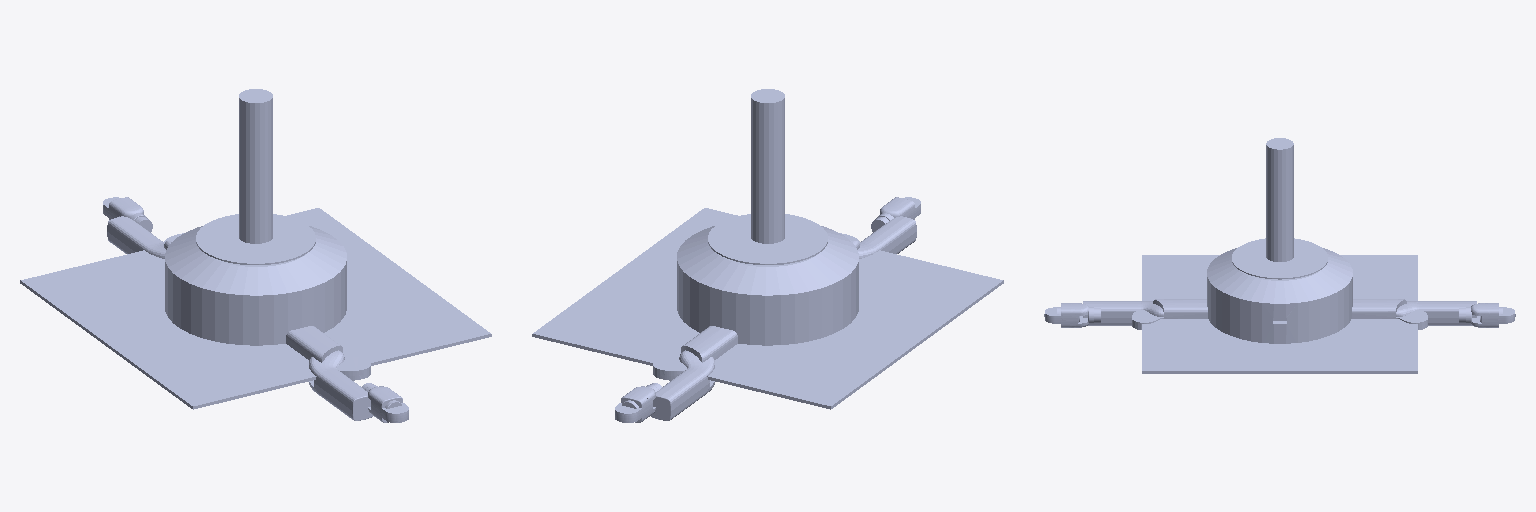
robot.urdf — LITE:
<?xml version="1.0" encoding="utf-8"?>
<!-- This URDF was automatically created by SolidWorks to URDF Exporter! Originally created by Stephen Brawner (brawner@gmail.com) 
     Commit Version: 1.6.0-4-g7f85cfe  Build Version: 1.6.7995.38578
     For more information, please see http://wiki.ros.org/sw_urdf_exporter -->
<robot
  name="LITE">
  <link name="world"/>
  <joint name="base_joint" type="fixed">
    <parent link="world"/>
    <child link="base_link"/>
    <origin rpy="0.0 0.0 0.0" xyz="0 0 0"/>
  </joint>
  <link
    name="base_link">
    <inertial>
      <origin
        xyz="0.0141253292247249 -4.20036726179649E-06 0.132977121503776"
        rpy="0 0 0" />
      <mass
        value="2.75758151164205" />
      <inertia
        ixx="0.0614284317104345"
        ixy="3.22712480151775E-06"
        ixz="0.000129288008857176"
        iyy="0.0193606386384773"
        iyz="-4.41970516662187E-05"
        izz="0.0697269847834143" />
    </inertial>
    <visual>
      <origin
        xyz="0 0 0"
        rpy="0 0 0" />
      <geometry>
        <mesh
          filename="package://arm_configuration/urdf/meshes/base_link.STL" />
      </geometry>
      <material
        name="">
        <color
          rgba="0.792156862745098 0.819607843137255 0.933333333333333 1" />
      </material>
    </visual>
  </link>
  <link
    name="environment_collision">
    <inertial>
      <origin
        xyz="0.0 0.0 0.0"
        rpy="0 0 0" />
      <mass
        value="0.0" />
      <inertia
        ixx="0.0"
        ixy="0.0"
        ixz="0.0"
        iyy="0.0"
        iyz="0.0"
        izz="0.0" />
    </inertial>
    <visual>
      <origin
        xyz="0 0 0.005"
        rpy="0 0 0" />
      <geometry>
          <box size="1 1 0.01"/>
      </geometry>
      <material
        name="">
        <color
          rgba="0.792156862745098 0.819607843137255 0.933333333333333 1" />
      </material>
    </visual>
  </link>
  <joint
    name="environment_base_joint"
    type="fixed">
    <origin
      xyz="0 0 0.0"
      rpy="0 0 0" />
    <parent
      link="base_link" />
    <child
      link="environment_collision" />
    <axis
      xyz="0 0 1" />
    <limit
      lower="0"
      upper="0"
      effort="150"
      velocity="1.0" />
  </joint>
  <link
    name="rotate_base_link">
    <inertial>
      <origin
        xyz="-0.000293575703811394 0.0105850645597227 0.148111558028349"
        rpy="0 0 0" />
      <mass
        value="1.53801301257715" />
      <inertia
        ixx="0.0305533569145264"
        ixy="-2.16355441377411E-05"
        ixz="-2.08371263676793E-05"
        iyy="0.026580802515967"
        iyz="-0.000511036712929673"
        izz="0.0179793744285114" />
    </inertial>
    <visual>
      <origin
        xyz="0 0 0"
        rpy="0 0 0" />
      <geometry>
        <mesh
          filename="package://arm_configuration/urdf/meshes/rotate_base_link.STL" />
      </geometry>
      <material
        name="">
        <color
          rgba="0.792156862745098 0.819607843137255 0.933333333333333 1" />
      </material>
    </visual>
  </link>
  <joint
    name="rotate_base_joint"
    type="fixed">
    <origin
      xyz="0.0 0 0.0"
      rpy="0 0 1.5708" />
    <parent
      link="base_link" />
    <child
      link="rotate_base_link" />
    <axis
      xyz="0 0 -1" />
    <limit
      lower="-1.5708"
      upper="1.5708"
      effort="150"
      velocity="1.0" />
  </joint>
  <link
    name="lift_base_link">
    <inertial>
      <origin
        xyz="0.000139614102716292 -0.00597001135279782 0.28009249952768"
        rpy="0 0 0" />
      <mass
        value="4.41102991654336" />
      <inertia
        ixx="0.115079886502991"
        ixy="-3.11026110900405E-05"
        ixz="3.19304541861952E-05"
        iyy="0.11444642072515"
        iyz="-0.0070601292991342"
        izz="0.031305681364256" />
    </inertial>
    <visual>
      <origin
        xyz="0 0 0"
        rpy="0 0 0" />
      <geometry>
        <mesh
          filename="package://arm_configuration/urdf/meshes/lift_base_link.STL" />
      </geometry>
      <material
        name="">
        <color
          rgba="0.792156862745098 0.819607843137255 0.933333333333333 1" />
      </material>
    </visual>
  </link>
  <joint
    name="lift_base_joint"
    type="fixed">
    <origin
      xyz="0 0 0.0"
      rpy="0 0 0" />
    <parent
      link="rotate_base_link" />
    <child
      link="lift_base_link" />
    <axis
      xyz="0 0 1" />
    <limit
      lower="0"
      upper="0.0"
      effort="150"
      velocity="1.0" />
  </joint>
  <link
    name="left_link1">
    <inertial>
      <origin
        xyz="-2.66168288961255E-05 -0.00830749214625637 0.0310881283072645"
        rpy="0 0 0" />
      <mass
        value="0.241937374991621" />
      <inertia
        ixx="0.000454996972895351"
        ixy="1.35793570630162E-07"
        ixz="-1.26473666443614E-07"
        iyy="0.000519097837877837"
        iyz="9.35422350075445E-05"
        izz="0.000278524142070606" />
    </inertial>
    <visual>
      <origin
        xyz="0 0 0"
        rpy="0 0 0" />
      <geometry>
        <mesh
          filename="package://arm_configuration/urdf/meshes/left_link1.STL" />
      </geometry>
      <material
        name="">
        <color
          rgba="0.792156862745098 0.819607843137255 0.933333333333333 1" />
      </material>
    </visual>
  </link>
  <joint
    name="left_joint1"
    type="revolute">
    <origin
      xyz="0.0 0 0.0"
      rpy="-1.5708 0 -1.5708" />
    <parent
      link="lift_base_link" />
    <child
      link="left_link1" />
    <axis
      xyz="0 0 -1" />
    <limit
      lower="-2.355"
      upper="1.4"
      effort="150"
      velocity="1.0" />
  </joint>
  <link
    name="left_link2">
    <inertial>
      <origin
        xyz="-7.86288399199503E-08 -0.0673971271917765 -0.0055819967802041"
        rpy="0 0 0" />
      <mass
        value="0.184335393388602" />
      <inertia
        ixx="0.000731340927885965"
        ixy="-3.63354907540534E-08"
        ixz="1.63923373812581E-09"
        iyy="0.000265162998199773"
        iyz="-3.36193835051627E-05"
        izz="0.000851509766257572" />
    </inertial>
    <visual>
      <origin
        xyz="0 0 0"
        rpy="0 0 0" />
      <geometry>
        <mesh
          filename="package://arm_configuration/urdf/meshes/left_link2.STL" />
      </geometry>
      <material
        name="">
        <color
          rgba="0.792156862745098 0.819607843137255 0.933333333333333 1" />
      </material>
    </visual>
  </link>
  <joint
    name="left_joint2"
    type="revolute">
    <origin
      xyz="0 0 0.0735"
      rpy="-1.5708 0 0" />
    <parent
      link="left_link1" />
    <child
      link="left_link2" />
    <axis
      xyz="0 0 1" />
    <limit
      lower="0.0"
      upper="1.72"
      effort="150"
      velocity="1.0" />
  </joint>
  <link
    name="left_link3">
    <inertial>
      <origin
        xyz="0.0113130160512933 -0.00139047171272433 0.101803824197802"
        rpy="0 0 0" />
      <mass
        value="0.286546082388147" />
      <inertia
        ixx="0.00136236128085669"
        ixy="-2.39134650599587E-06"
        ixz="-0.000251516933100364"
        iyy="0.00151871171355916"
        iyz="2.81983194166566E-05"
        izz="0.000420609188449898" />
    </inertial>
    <visual>
      <origin
        xyz="0 0 0"
        rpy="0 0 0" />
      <geometry>
        <mesh
          filename="package://arm_configuration/urdf/meshes/left_link3.STL" />
      </geometry>
      <material
        name="">
        <color
          rgba="0.792156862745098 0.819607843137255 0.933333333333333 1" />
      </material>
    </visual>
    <collision>
      <origin
        xyz="0 0 0"
        rpy="0 0 0" />
      <geometry>
        <sphere radius="0.0"/>
      </geometry>
    </collision>
  </link>
  <joint
    name="left_joint3"
    type="revolute">
    <origin
      xyz="0 -0.175 0"
      rpy="1.5708 0 0" />
    <parent
      link="left_link2" />
    <child
      link="left_link3" />
    <axis
      xyz="0 0 -1" />
    <limit
      lower="-2.8"
      upper="2.8"
      effort="150"
      velocity="1.0" />
  </joint>
  <link
    name="left_link4">
    <inertial>
      <origin
        xyz="-0.0369929785397508 0.100979786033586 0.00398372467518793"
        rpy="0 0 0" />
      <mass
        value="0.316527562759907" />
      <inertia
        ixx="0.00062197886232941"
        ixy="9.26646527581961E-05"
        ixz="-4.02371215985711E-06"
        iyy="0.00029397564993434"
        iyz="6.10300394826397E-06"
        izz="0.000756017451080388" />
    </inertial>
    <visual>
      <origin
        xyz="0 0 0"
        rpy="0 0 0" />
      <geometry>
        <mesh
          filename="package://arm_configuration/urdf/meshes/left_link4.STL" />
      </geometry>
      <material
        name="">
        <color
          rgba="0.792156862745098 0.819607843137255 0.933333333333333 1" />
      </material>
    </visual>
  </link>
  <joint
    name="left_joint4"
    type="revolute">
    <origin
      xyz="0.0 0 0.175"
      rpy="1.5708 0 0" />
    <parent
      link="left_link3" />
    <child
      link="left_link4" />
    <axis
      xyz="0 0 1" />
    <limit
      lower="-2.95"
      upper="0.0"
      effort="150"
      velocity="1.0" />
  </joint>
  <link
    name="left_link5">
    <inertial>
      <origin
        xyz="1.15032198859562E-06 -0.00217856177265219 0.0626522710489378"
        rpy="0 0 0" />
      <mass
        value="0.117409990859928" />
      <inertia
        ixx="0.000185243756504327"
        ixy="1.99998359519701E-09"
        ixz="3.7240463406726E-09"
        iyy="0.000218390170388541"
        iyz="9.54490073269051E-06"
        izz="0.000120072471105288" />
    </inertial>
    <visual>
      <origin
        xyz="0 0 0"
        rpy="0 0 0" />
      <geometry>
        <mesh
          filename="package://arm_configuration/urdf/meshes/left_link5.STL" />
      </geometry>
      <material
        name="">
        <color
          rgba="0.792156862745098 0.819607843137255 0.933333333333333 1" />
      </material>
    </visual>
  </link>
  <joint
    name="left_joint5"
    type="revolute">
    <origin
      xyz="0.0 0.3 0"
      rpy="-1.5708 0 0" />
    <parent
      link="left_link4" />
    <child
      link="left_link5" />
    <axis
      xyz="0 0 -1" />
    <limit
      lower="-2.8"
      upper="2.8"
      effort="150"
      velocity="1.0" />
  </joint>
  <link
    name="left_link6">
    <inertial>
      <origin
        xyz="0.0064488938769246 3.11196823776262E-06 -0.0184241189642746"
        rpy="0 0 0" />
      <mass
        value="0.022457102740047" />
      <inertia
        ixx="1.33641187481794E-05"
        ixy="5.33354560974428E-11"
        ixz="-7.69314748481527E-07"
        iyy="1.83353571513266E-05"
        iyz="-4.76507355724923E-11"
        izz="3.0247669267946E-05" />
    </inertial>
    <visual>
      <origin
        xyz="0 0 0"
        rpy="0 0 0" />
      <geometry>
        <mesh
          filename="package://arm_configuration/urdf/meshes/left_link6.STL" />
      </geometry>
      <material
        name="">
        <color
          rgba="0.792156862745098 0.819607843137255 0.933333333333333 1" />
      </material>
    </visual>
  </link>
  <joint
    name="left_joint6"
    type="revolute">
    <origin
      xyz="0 0 0.0"
      rpy="1.5708 0 0" />
    <parent
      link="left_link5" />
    <child
      link="left_link6" />
    <axis
      xyz="0 0 1" />
    <limit
      lower="0.0"
      upper="3.1416"
      effort="150"
      velocity="1.0" />
  </joint>
  <link
    name="left_link7">
    <inertial>
      <origin
        xyz="0.0298233422030079 -4.61921491523576E-06 0.0281326690820026"
        rpy="0 0 0" />
      <mass
        value="0.268434737325076" />
      <inertia
        ixx="0.000299575958978953"
        ixy="8.61427682241884E-09"
        ixz="4.09055202646208E-06"
        iyy="0.000424468126323213"
        iyz="-5.50989007900164E-08"
        izz="0.00029866503246664" />
    </inertial>
    <visual>
      <origin
        xyz="0 0 -0.0305"
        rpy="0 0 0" />
      <geometry>
        <mesh
          filename="package://arm_configuration/urdf/meshes/left_link7.STL" />
      </geometry>
      <material
        name="">
        <color
          rgba="0.792156862745098 0.819607843137255 0.933333333333333 1" />
      </material>
    </visual>
  </link>
  <joint
    name="left_joint7"
    type="revolute">
    <origin
      xyz="0.0 0.0 0"
      rpy="-1.5708 0 0" />
    <parent
      link="left_link6" />
    <child
      link="left_link7" />
    <axis
      xyz="0 0 -1" />
    <limit
      lower="-1.5708"
      upper="1.5708"
      effort="150"
      velocity="1.0" />
  </joint>
  <link
    name="right_link1">
    <inertial>
      <origin
        xyz="-2.60130408518029E-05 -0.00811895121810757 0.0321192302812373"
        rpy="0 0 0" />
      <mass
        value="0.247555718917631" />
      <inertia
        ixx="0.000458793672714915"
        ixy="1.35796201518677E-07"
        ixz="-1.26473413515972E-07"
        iyy="0.000526646193788652"
        iyz="9.35422342727127E-05"
        izz="0.00028228260579432" />
    </inertial>
    <visual>
      <origin
        xyz="0 0 0"
        rpy="0 0 0" />
      <geometry>
        <mesh
          filename="package://arm_configuration/urdf/meshes/right_link1.STL" />
      </geometry>
      <material
        name="">
        <color
          rgba="0.792156862745098 0.819607843137255 0.933333333333333 1" />
      </material>
    </visual>
  </link>
  <joint
    name="right_joint1"
    type="revolute">
    <origin
      xyz="0.0 0 0.0"
      rpy="1.5708 0 -1.5708" />
    <parent
      link="lift_base_link" />
    <child
      link="right_link1" />
    <axis
      xyz="0 0 1" />
    <limit
      lower="-2.355"
      upper="1.4"
      effort="150"
      velocity="1.0" />
  </joint>
  <link
    name="right_link2">
    <inertial>
      <origin
        xyz="6.46083263890901E-06 0.0673910816499848 0.00558199876304455"
        rpy="0 0 0" />
      <mass
        value="0.184335393388605" />
      <inertia
        ixx="0.000731340927885995"
        ixy="3.63354907371682E-08"
        ixz="-1.63923373515167E-09"
        iyy="0.000265162998199774"
        iyz="-3.36193835051616E-05"
        izz="0.000851509766257596" />
    </inertial>
    <visual>
      <origin
        xyz="0 0 0"
        rpy="0 0 0" />
      <geometry>
        <mesh
          filename="package://arm_configuration/urdf/meshes/right_link2.STL" />
      </geometry>
      <material
        name="">
        <color
          rgba="0.792156862745098 0.819607843137255 0.933333333333333 1" />
      </material>
    </visual>
  </link>
  <joint
    name="right_joint2"
    type="revolute">
    <origin
      xyz="0 0 0.0735"
      rpy="1.5708 0 0" />
    <parent
      link="right_link1" />
    <child
      link="right_link2" />
    <axis
      xyz="0 0 -1" />
    <limit
      lower="0.0"
      upper="1.72"
      effort="150"
      velocity="1.0" />
  </joint>
  <link
    name="right_link3">
    <inertial>
      <origin
        xyz="0.0113130172571765 -0.00139047069494125 0.10330382410183"
        rpy="0 0 0" />
      <mass
        value="0.286546096065473" />
      <inertia
        ixx="0.0013623612856017"
        ixy="-2.39136224670563E-06"
        ixz="-0.000251516926497926"
        iyy="0.00151871172957027"
        iyz="2.81983277203326E-05"
        izz="0.000420609191632972" />
    </inertial>
    <visual>
      <origin
        xyz="0 0 0"
        rpy="0 0 0" />
      <geometry>
        <mesh
          filename="package://arm_configuration/urdf/meshes/right_link3.STL" />
      </geometry>
      <material
        name="">
        <color
          rgba="0.792156862745098 0.819607843137255 0.933333333333333 1" />
      </material>
    </visual>
  </link>
  <joint
    name="right_joint3"
    type="revolute">
    <origin
      xyz="0 0.175 0"
      rpy="-1.5708 0 0" />
    <parent
      link="right_link2" />
    <child
      link="right_link3" />
    <axis
      xyz="0 0 1" />
    <limit
      lower="-2.8"
      upper="2.8"
      effort="150"
      velocity="1.0" />
  </joint>
  <link
    name="right_link4">
    <inertial>
      <origin
        xyz="-0.0369929755395104 -0.100979776811948 -0.00398372959476012"
        rpy="0 0 0" />
      <mass
        value="0.316527577765518" />
      <inertia
        ixx="0.000621978915368395"
        ixy="-9.26646906896603E-05"
        ixz="4.02373044464328E-06"
        iyy="0.000293975690872422"
        iyz="6.10302257874974E-06"
        izz="0.000756017544537719" />
    </inertial>
    <visual>
      <origin
        xyz="0 0 0"
        rpy="0 0 0" />
      <geometry>
        <mesh
          filename="package://arm_configuration/urdf/meshes/right_link4.STL" />
      </geometry>
      <material
        name="">
        <color
          rgba="0.792156862745098 0.819607843137255 0.933333333333333 1" />
      </material>
    </visual>
  </link>
  <joint
    name="right_joint4"
    type="revolute">
    <origin
      xyz="0.0 0 0.175"
      rpy="-1.5708 0 0" />
    <parent
      link="right_link3" />
    <child
      link="right_link4" />
    <axis
      xyz="0 0 -1" />
    <limit
      lower="-2.95"
      upper="0.0"
      effort="150"
      velocity="1.0" />
  </joint>
  <link
    name="right_link5">
    <inertial>
      <origin
        xyz="1.15032198942308E-06 -0.00217856177265197 0.0626522710489376"
        rpy="0 0 0" />
      <mass
        value="0.117409990859927" />
      <inertia
        ixx="0.000185243756504329"
        ixy="1.99998359574254E-09"
        ixz="3.72404633937664E-09"
        iyy="0.000218390170388541"
        iyz="9.5449007326914E-06"
        izz="0.000120072471105287" />
    </inertial>
    <visual>
      <origin
        xyz="0 0 0"
        rpy="0 0 0" />
      <geometry>
        <mesh
          filename="package://arm_configuration/urdf/meshes/right_link5.STL" />
      </geometry>
      <material
        name="">
        <color
          rgba="0.792156862745098 0.819607843137255 0.933333333333333 1" />
      </material>
    </visual>
  </link>
  <joint
    name="right_joint5"
    type="revolute">
    <origin
      xyz="0 -0.3 0"
      rpy="1.5708 0 0" />
    <parent
      link="right_link4" />
    <child
      link="right_link5" />
    <axis
      xyz="0 0 1" />
    <limit
      lower="-2.8"
      upper="2.8"
      effort="150"
      velocity="1.0" />
  </joint>
  <link
    name="right_link6">
    <inertial>
      <origin
        xyz="0.00644889387678493 -3.11196777172743E-06 0.0184241189645866"
        rpy="0 0 0" />
      <mass
        value="0.0224571027400462" />
      <inertia
        ixx="1.33641187481803E-05"
        ixy="-5.33354555725927E-11"
        ixz="7.69314748481639E-07"
        iyy="1.83353571513277E-05"
        iyz="-4.76507354590729E-11"
        izz="3.02476692679479E-05" />
    </inertial>
    <visual>
      <origin
        xyz="0 0 0"
        rpy="0 0 0" />
      <geometry>
        <mesh
          filename="package://arm_configuration/urdf/meshes/right_link6.STL" />
      </geometry>
      <material
        name="">
        <color
          rgba="0.792156862745098 0.819607843137255 0.933333333333333 1" />
      </material>
    </visual>
  </link>
  <joint
    name="right_joint6"
    type="revolute">
    <origin
      xyz="0 0 0.0"
      rpy="-1.5708 0 0" />
    <parent
      link="right_link5" />
    <child
      link="right_link6" />
    <axis
      xyz="0 0 -1" />
    <limit
      lower="0.0"
      upper="3.1416"
      effort="150"
      velocity="1.0" />
  </joint>
  <link
    name="right_link7">
    <inertial>
      <origin
        xyz="0.0298233421940839 -4.61987757616189E-06 0.0281326683770637"
        rpy="0 0 0" />
      <mass
        value="0.26843474420369" />
      <inertia
        ixx="0.000299575968214239"
        ixy="8.61101376621263E-09"
        ixz="4.09054892759041E-06"
        iyy="0.000424468134349503"
        iyz="-5.51036282068795E-08"
        izz="0.000298665039441518" />
    </inertial>
    <visual>
      <origin
        xyz="0 0 -0.0305"
        rpy="0 0 0" />
      <geometry>
        <mesh
          filename="package://arm_configuration/urdf/meshes/right_link7.STL" />
      </geometry>
      <material
        name="">
        <color
          rgba="0.792156862745098 0.819607843137255 0.933333333333333 1" />
      </material>
    </visual>
  </link>
  <joint
    name="right_joint7"
    type="revolute">
    <origin
      xyz="0.0 0 0"
      rpy="1.5708 0 0" />
    <parent
      link="right_link6" />
    <child
      link="right_link7" />
    <axis
      xyz="0 0 1" />
    <limit
      lower="-1.5708"
      upper="1.5708"
      effort="150"
      velocity="1.0" />
  </joint>
</robot>

--- Facts derived from the render (not from the file) ---
The picture shows the robot from 3 angles, left to right: view 1: azimuth 30°, elevation 25°; view 2: azimuth 150°, elevation 25°; view 3: azimuth 270°, elevation 25°; orthographic projection.
Model LITE with 19 links and 18 joints (14 revolute, 4 fixed), rooted at world, posed all joints at 0.
Links seen in each view (by area): view 1: environment_collision, base_link, right_link4, right_link3, left_link4, right_link6, right_link5; view 2: environment_collision, base_link, left_link4, left_link3, right_link4, left_link6, left_link5; view 3: environment_collision, base_link, left_link3, right_link3, left_link4, right_link4.
Boxes of the visible links, x1,y1,x2,y2 form: environment_collision: (20, 208, 491, 409); base_link: (165, 89, 346, 345); right_link4: (309, 350, 372, 420); right_link3: (286, 326, 370, 380); left_link4: (107, 216, 165, 258); right_link6: (368, 386, 402, 422); right_link5: (371, 390, 408, 422); environment_collision: (532, 208, 1003, 409); base_link: (677, 89, 858, 345); left_link4: (651, 350, 714, 420); left_link3: (653, 326, 737, 380); right_link4: (858, 216, 916, 258); left_link6: (621, 386, 655, 422); left_link5: (615, 389, 652, 422); environment_collision: (1142, 255, 1417, 373); base_link: (1207, 138, 1352, 343); left_link3: (1352, 299, 1427, 329); right_link3: (1132, 299, 1207, 329); left_link4: (1396, 301, 1476, 325); right_link4: (1083, 301, 1163, 325).
Bounding box of the posed robot: 1 × 1.7 × 0.7505 m (x, y, z).
15 mesh visuals loaded from 17 distinct referenced files (15 binary STL); not drawn: 2 (reference not matched to a file when rendering).
